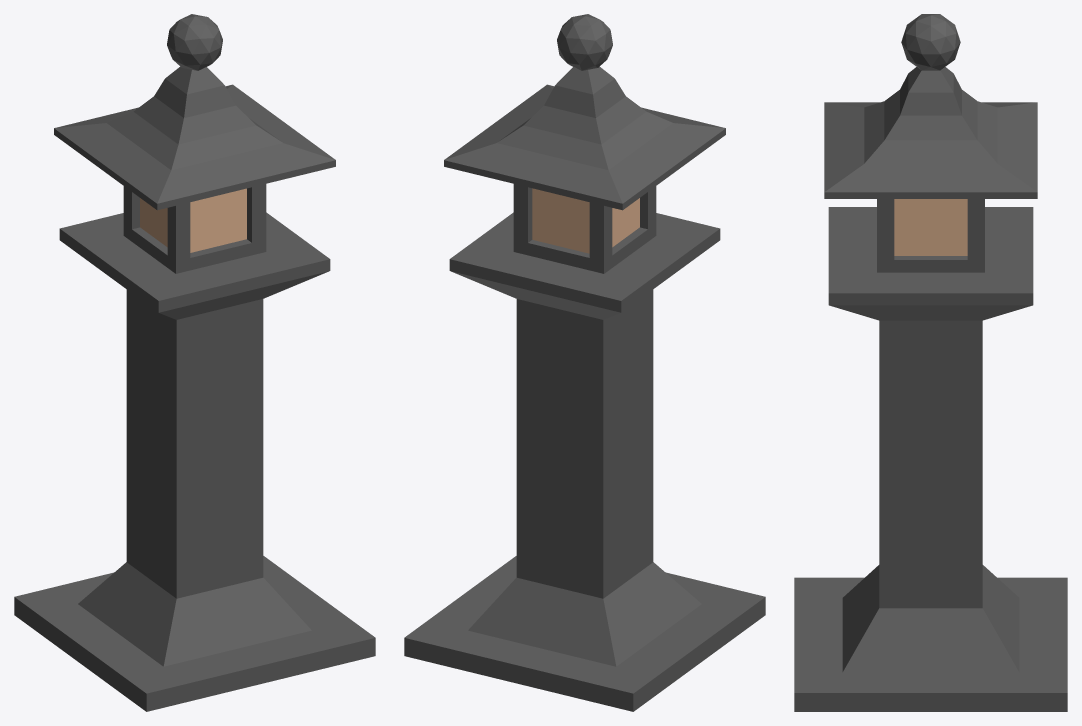
File: long-lamp.glb
The picture shows the model from 3 angles, left to right: view 1: azimuth 30°, elevation 25°; view 2: azimuth 150°, elevation 25°; view 3: azimuth 270°, elevation 25°; orthographic projection. The views are drawn at different scales.
Visible parts, largest first — view 1: Cube, Cube.001, Icosphere; view 2: Cube, Cube.001, Icosphere; view 3: Cube, Cube.001, Icosphere.
Part boxes in pixels (x1=…): Cube: x1=14, y1=66, x2=375, y2=711; Cube.001: x1=140, y1=188, x2=246, y2=252; Icosphere: x1=167, y1=14, x2=222, y2=70; Cube: x1=404, y1=66, x2=765, y2=711; Cube.001: x1=532, y1=188, x2=639, y2=253; Icosphere: x1=557, y1=14, x2=612, y2=70; Cube: x1=794, y1=67, x2=1067, y2=711; Cube.001: x1=894, y1=199, x2=967, y2=255; Icosphere: x1=901, y1=14, x2=960, y2=70.
Size of the model in its own units: 2.32 by 5.98 by 2.32.
